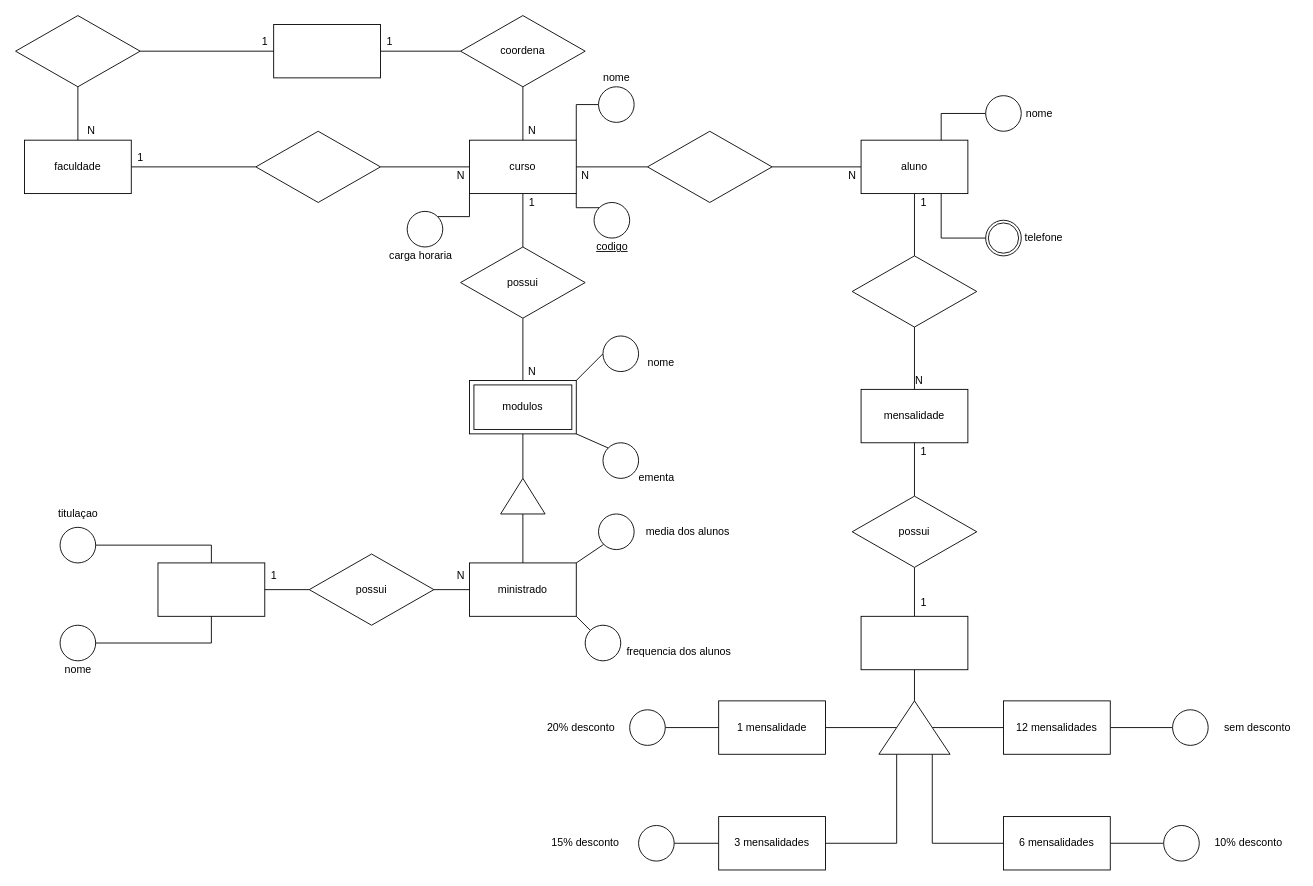
Some shapes in this 1313 by 886 pixel diagram are drawn without their labels. Here are the shapes that lost their labels. From the top down, the centre of each, then its label:
point (77, 51): trabalha
point (326, 51): coordenador
point (317, 166): oferece
point (709, 166): matriculados
point (914, 291): paga
point (211, 589): professor
point (914, 642): criterio
